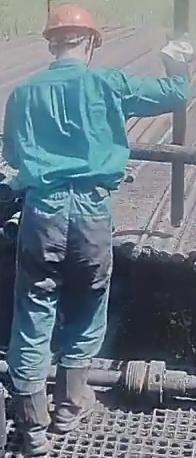gloves: (160, 28, 195, 80)
helmet: (41, 5, 103, 51)
vest: (2, 69, 121, 209)
